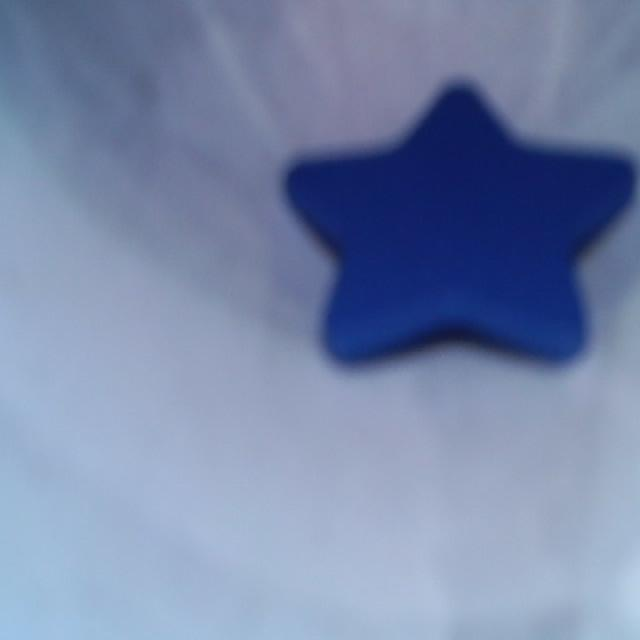star: (286, 85, 634, 361)
